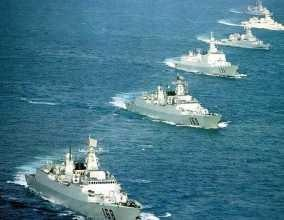warship: (21, 141, 139, 220), (125, 69, 222, 127), (173, 43, 246, 78), (209, 26, 272, 49), (240, 9, 284, 31)
